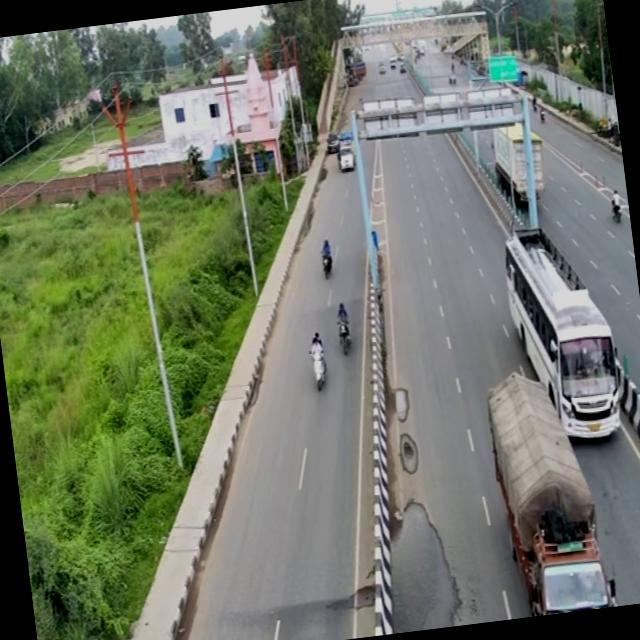car: (331, 130, 358, 172)
